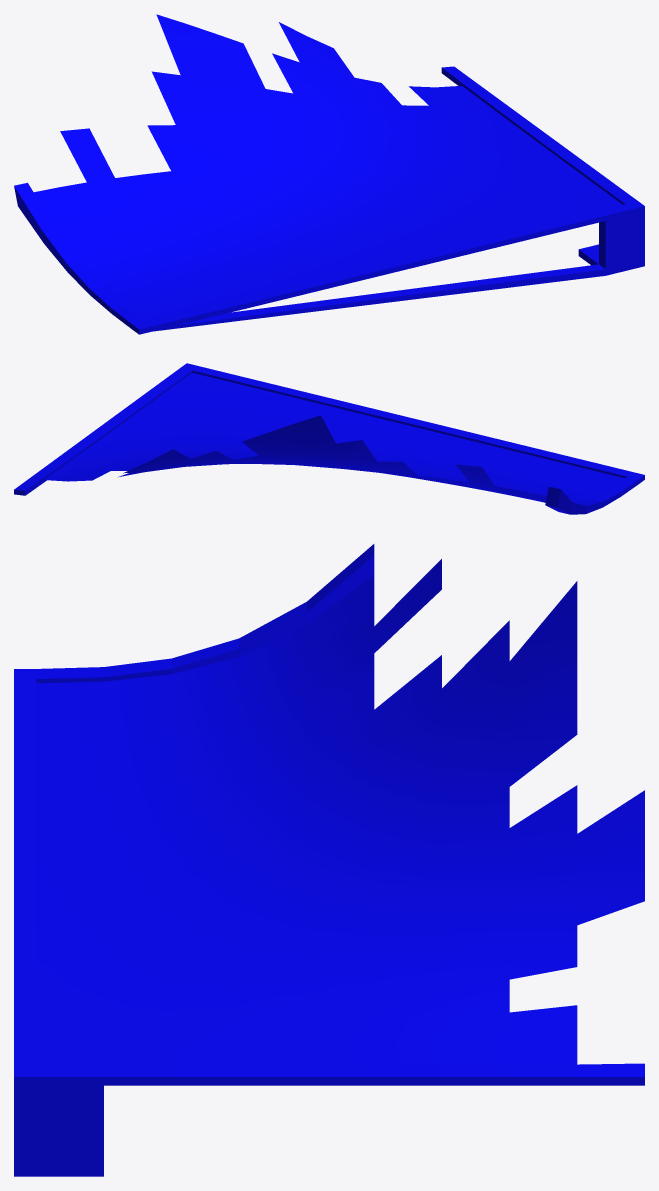
Rendered from sub_BrokenWireNettingStoolUP1.fbx.
The picture shows the model from 3 angles, top to bottom: view 1: azimuth 30°, elevation 25°; view 2: azimuth 150°, elevation 25°; view 3: azimuth 270°, elevation 25°; orthographic projection. The views are drawn at different scales.
Parts seen in each view (by area): view 1: sub_BrokenWireNettingStoolUP1; view 2: sub_BrokenWireNettingStoolUP1; view 3: sub_BrokenWireNettingStoolUP1.
Part boxes in pixels (x1,y1,x2,y2): sub_BrokenWireNettingStoolUP1: [14, 14, 644, 334]; sub_BrokenWireNettingStoolUP1: [14, 363, 644, 514]; sub_BrokenWireNettingStoolUP1: [14, 544, 644, 1176].
Size of the model in its own units: 6.48 by 2.43 by 4.1.
